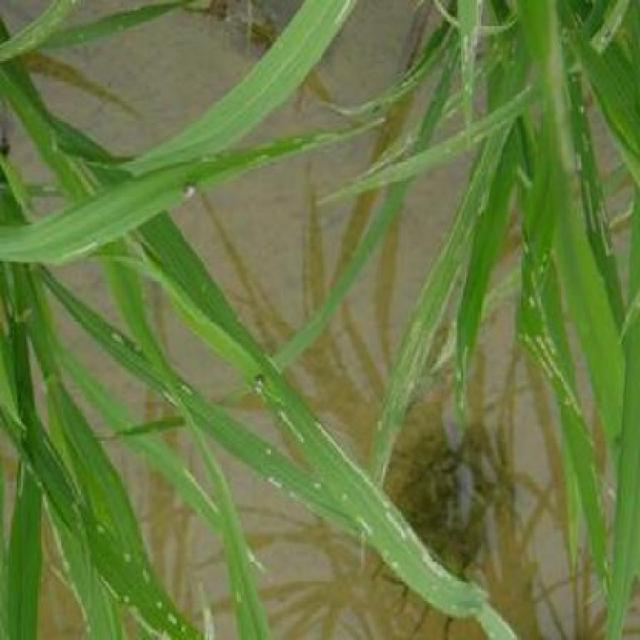rice-bug: (249, 369, 269, 398), (178, 178, 202, 202)
